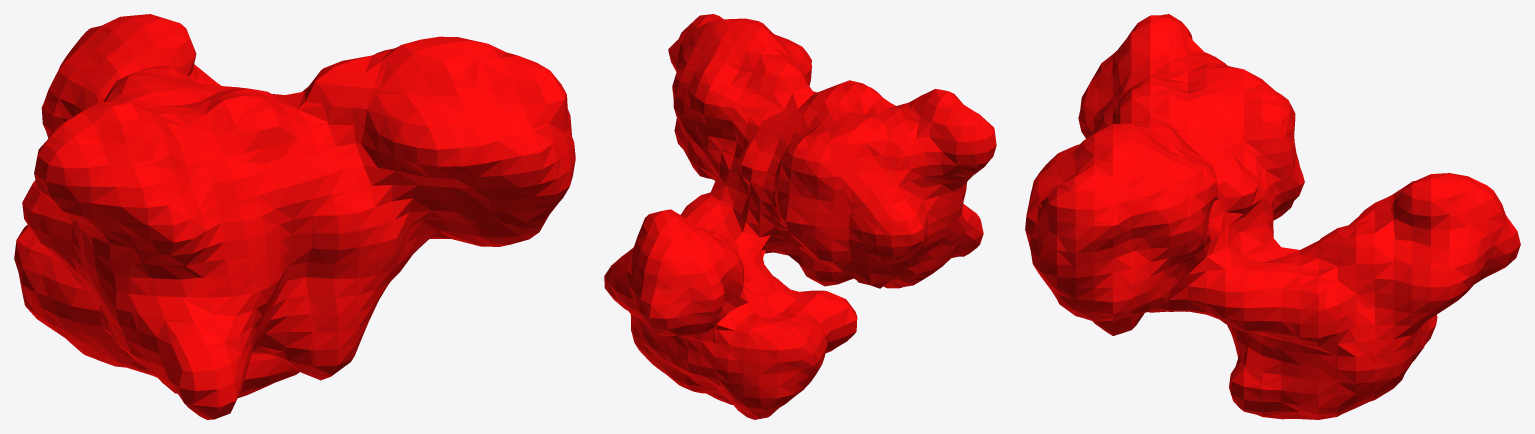
The model's file is thrS_coarse.dae.
3 views of the same model, side by side, from view 1: azimuth 30°, elevation 25°; view 2: azimuth 150°, elevation 25°; view 3: azimuth 270°, elevation 25° (orthographic). The views are drawn at different scales.
Visible parts, largest first — view 1: thrS; view 2: thrS; view 3: thrS.
Part boxes in pixels (left/top/right/bottom): thrS: left=14, top=14, right=575, bottom=419; thrS: left=604, top=14, right=996, bottom=419; thrS: left=1025, top=14, right=1520, bottom=419.
Bounding box in the file's own units: 86.86 × 70.55 × 95.71.
